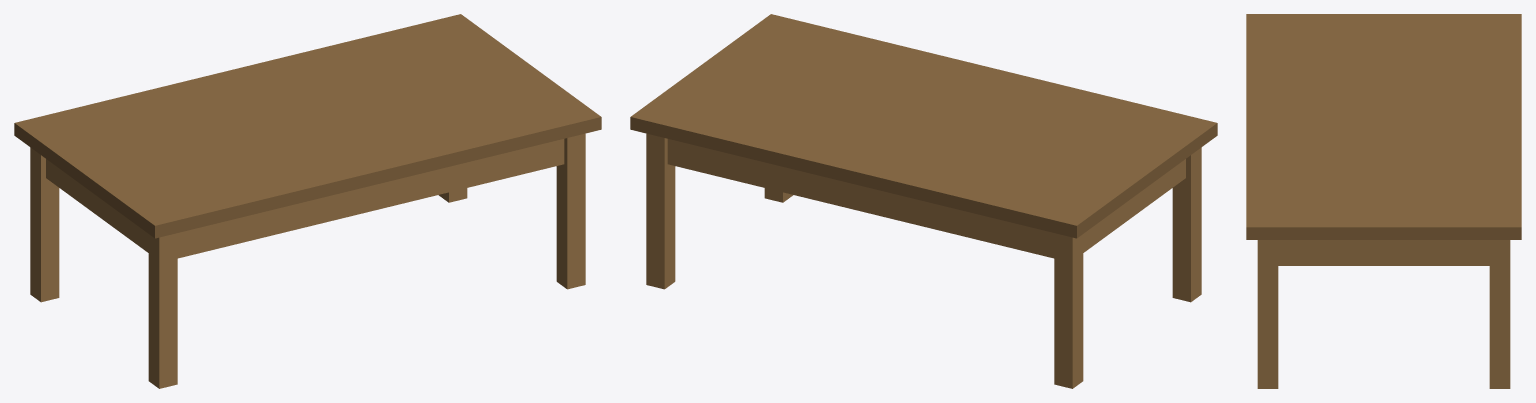
File: HIN-COF-std.glb
The picture shows the model from 3 angles, left to right: view 1: azimuth 30°, elevation 25°; view 2: azimuth 150°, elevation 25°; view 3: azimuth 270°, elevation 25°; orthographic projection. The views are drawn at different scales.
Parts seen in each view (by area): view 1: top:pbr, apron-f:pbr, leg-fl:pbr, leg-fr:pbr, leg-bl:pbr, apron-l:pbr; view 2: top:pbr, apron-b:pbr, leg-bl:pbr, leg-br:pbr, leg-fl:pbr, apron-l:pbr; view 3: top:pbr, apron-r:pbr, leg-fr:pbr, leg-br:pbr.
Part boxes in pixels (left/top/right/bottom): top:pbr: left=14, top=14, right=601, bottom=238; apron-f:pbr: left=177, top=139, right=564, bottom=258; leg-fl:pbr: left=148, top=233, right=177, bottom=388; leg-fr:pbr: left=556, top=133, right=585, bottom=289; leg-bl:pbr: left=30, top=147, right=59, bottom=302; apron-l:pbr: left=46, top=159, right=148, bottom=252; top:pbr: left=630, top=14, right=1217, bottom=238; apron-b:pbr: left=667, top=139, right=1054, bottom=258; leg-bl:pbr: left=1054, top=233, right=1083, bottom=388; leg-br:pbr: left=646, top=133, right=675, bottom=289; leg-fl:pbr: left=1172, top=147, right=1201, bottom=302; apron-l:pbr: left=1083, top=159, right=1185, bottom=252; top:pbr: left=1246, top=14, right=1521, bottom=239; apron-r:pbr: left=1278, top=240, right=1489, bottom=265; leg-fr:pbr: left=1257, top=240, right=1278, bottom=388; leg-br:pbr: left=1489, top=240, right=1510, bottom=388.
Size of the model in its own units: 1.1 by 0.4 by 0.6.
